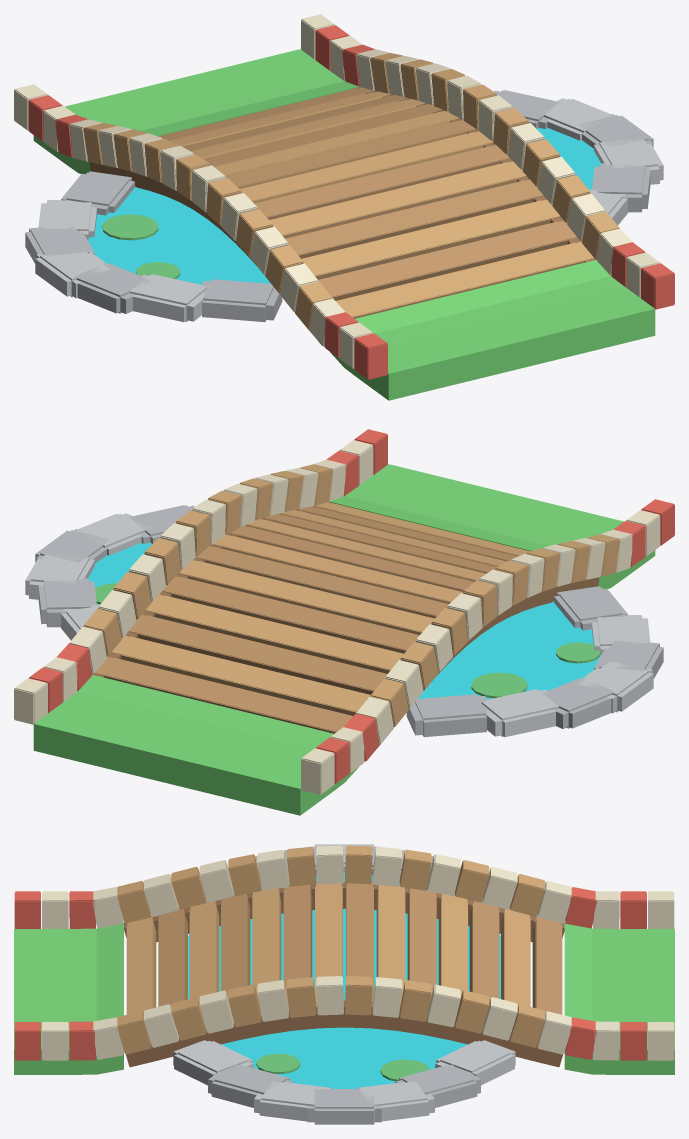
The model's file is carnival_bridge_pond_6x12.glb.
3 renders of one model, top to bottom at view 1: azimuth 30°, elevation 25°; view 2: azimuth 150°, elevation 25°; view 3: azimuth 270°, elevation 25°, orthographic. The views are drawn at different scales.
Visible parts, largest first — view 1: Mesh_Bridge_Deck, Mesh_Pond_Stones, Mesh_Floor_In, Mesh_Wall_L.006, Mesh_Wall_R.006, Mesh_Floor_Out, Mesh_Pond_Water; view 2: Mesh_Bridge_Deck, Mesh_Pond_Stones, Mesh_Floor_Out, Mesh_Wall_L.006, Mesh_Wall_R.006, Mesh_Floor_In, Mesh_Pond_Water; view 3: Mesh_Bridge_Deck, Mesh_Wall_R.006, Mesh_Wall_L.006, Mesh_Pond_Stones, Mesh_Floor_Out, Mesh_Floor_In, Mesh_Pond_Water.
Part boxes in pixels (left/top/right/bottom): Mesh_Bridge_Deck: left=89, top=87, right=596, bottom=345; Mesh_Pond_Stones: left=25, top=90, right=663, bottom=322; Mesh_Floor_In: left=330, top=260, right=655, bottom=400; Mesh_Wall_L.006: left=14, top=84, right=387, bottom=379; Mesh_Wall_R.006: left=301, top=14, right=674, bottom=309; Mesh_Floor_Out: left=33, top=49, right=358, bottom=174; Mesh_Pond_Water: left=88, top=127, right=600, bottom=284; Mesh_Bridge_Deck: left=92, top=502, right=599, bottom=760; Mesh_Pond_Stones: left=25, top=505, right=663, bottom=737; Mesh_Floor_Out: left=33, top=675, right=358, bottom=815; Mesh_Wall_L.006: left=301, top=499, right=674, bottom=794; Mesh_Wall_R.006: left=14, top=429, right=387, bottom=724; Mesh_Floor_In: left=330, top=464, right=655, bottom=589; Mesh_Pond_Water: left=88, top=542, right=600, bottom=699; Mesh_Bridge_Deck: left=123, top=881, right=565, bottom=1067; Mesh_Wall_R.006: left=14, top=976, right=674, bottom=1060; Mesh_Wall_L.006: left=14, top=845, right=674, bottom=928; Mesh_Pond_Stones: left=173, top=844, right=515, bottom=1124; Mesh_Floor_Out: left=564, top=923, right=674, bottom=1074; Mesh_Floor_In: left=14, top=923, right=123, bottom=1074; Mesh_Pond_Water: left=188, top=872, right=500, bottom=1088.
Size of what is drawn, in the model's own units: 11.45 by 1.99 by 12.
